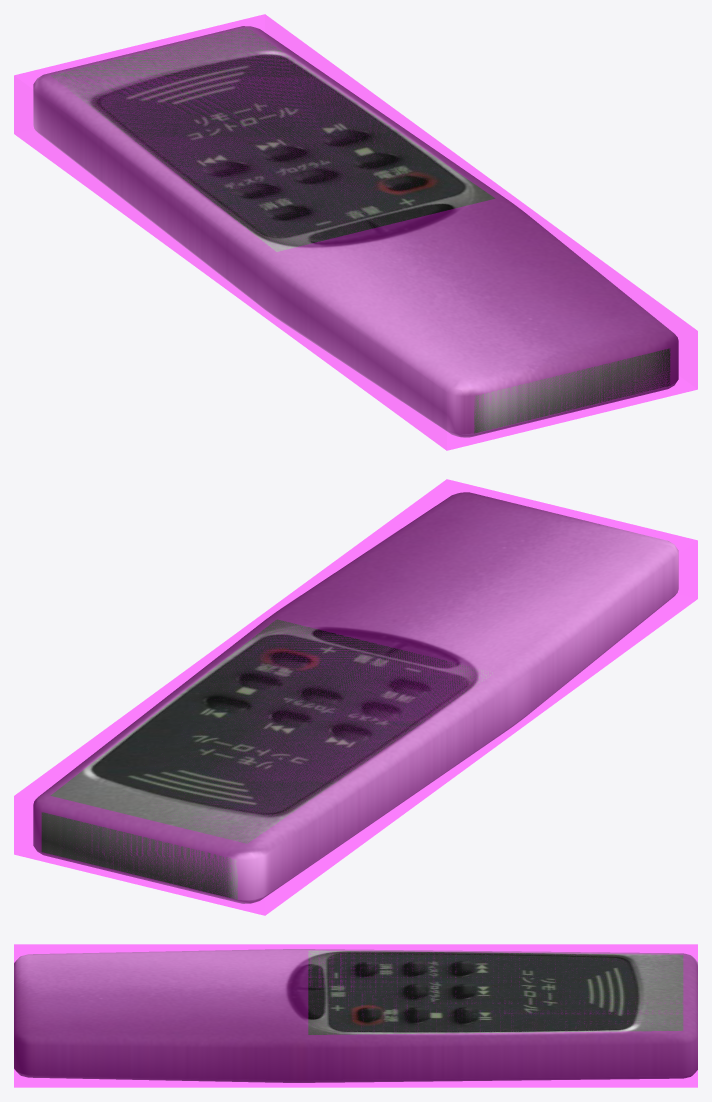
File: CDremocon.fbx
3 renders of one model, top to bottom at view 1: azimuth 30°, elevation 25°; view 2: azimuth 150°, elevation 25°; view 3: azimuth 270°, elevation 25°, orthographic. The views are drawn at different scales.
Parts seen in each view (by area): view 1: CDremocon, boundingbox; view 2: CDremocon, boundingbox; view 3: CDremocon, boundingbox.
Part boxes in pixels (bbox=[...]): CDremocon: bbox=[33, 26, 678, 437]; boundingbox: bbox=[14, 14, 697, 450]; CDremocon: bbox=[33, 492, 678, 903]; boundingbox: bbox=[14, 479, 697, 915]; CDremocon: bbox=[14, 949, 697, 1082]; boundingbox: bbox=[14, 944, 697, 1087].
Bounding box in the file's own units: 5.02 × 1.12 × 15.
2 materials, 1 textured.
